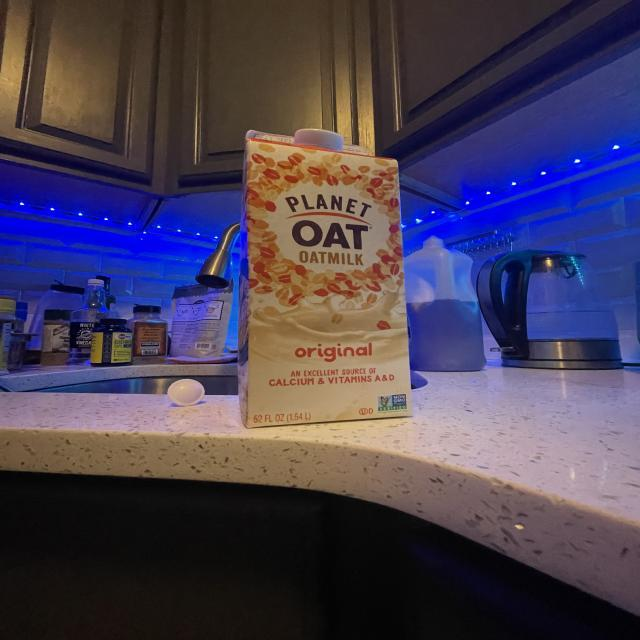Planet Oat Original: (233, 122, 416, 430)
